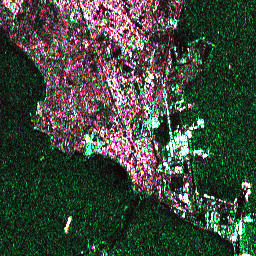ship: (62, 214, 75, 235)
